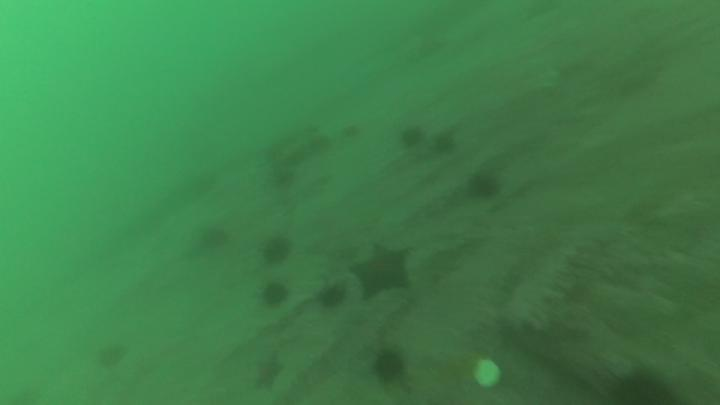echinus: (615, 370, 681, 405), (372, 347, 407, 388), (464, 171, 506, 203), (261, 233, 296, 267), (199, 224, 232, 254), (260, 280, 291, 310), (100, 341, 132, 370), (400, 122, 428, 152), (431, 129, 459, 158), (319, 285, 349, 311)
scallop: (470, 358, 504, 390)
starfish: (346, 238, 419, 306), (249, 352, 287, 397)
